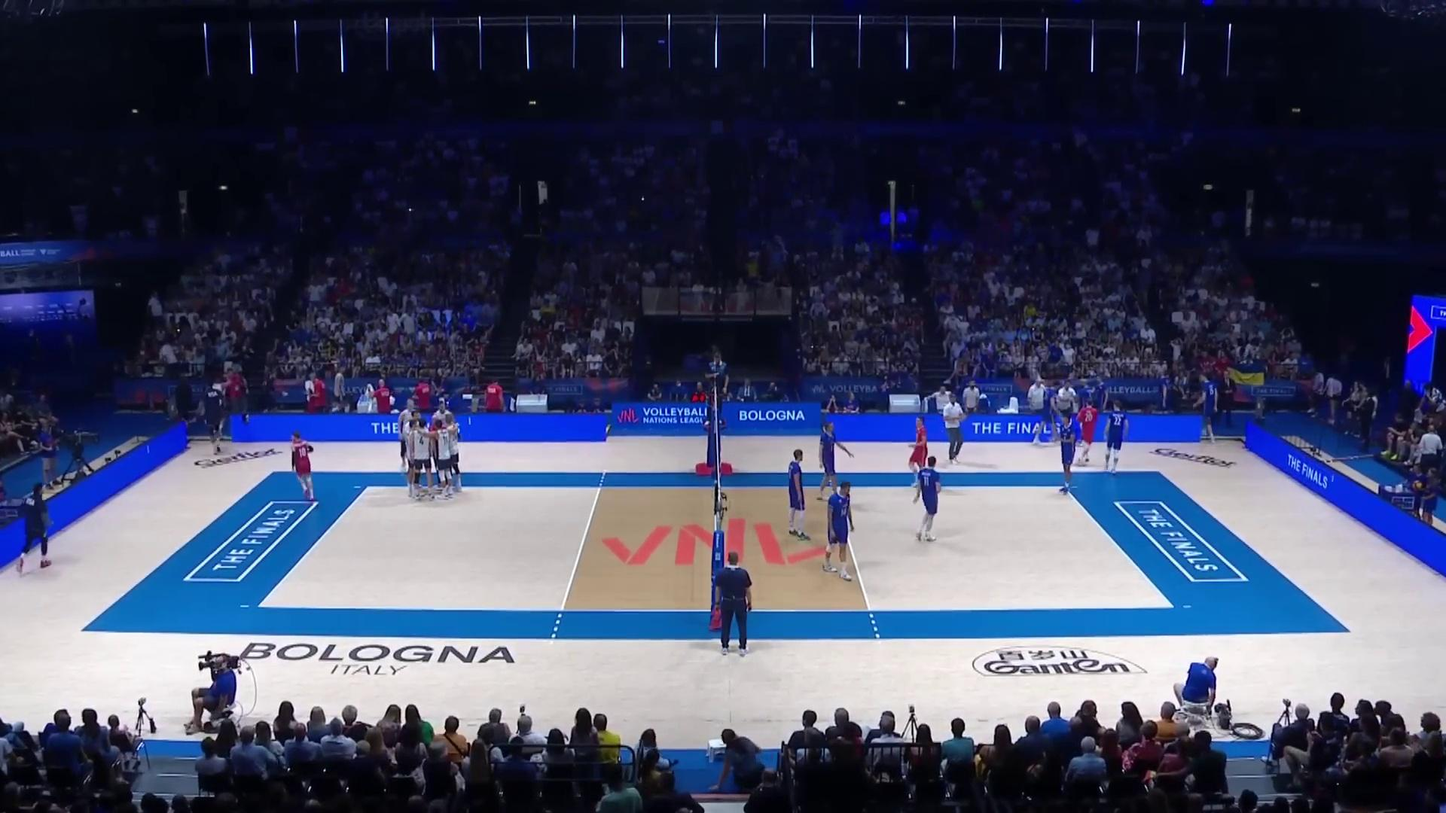player: (822, 479, 856, 581), (817, 422, 847, 502), (288, 431, 318, 506), (918, 456, 944, 542), (785, 447, 809, 539), (1054, 412, 1079, 498), (412, 419, 433, 501), (432, 419, 453, 500), (1104, 402, 1127, 473), (445, 418, 465, 492), (1078, 400, 1098, 465), (911, 417, 929, 489)
refree: (713, 551, 751, 656), (705, 351, 729, 424)
